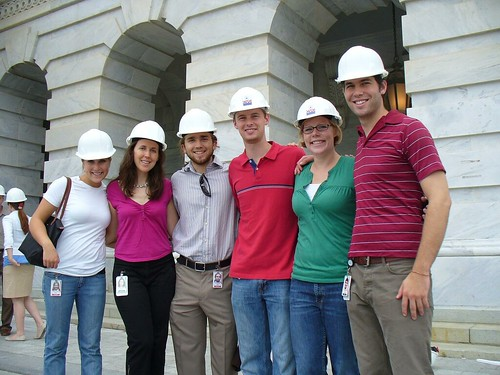person hardhat: (335, 44, 452, 375), (23, 126, 120, 371), (225, 88, 298, 374), (292, 92, 359, 375), (170, 108, 241, 375), (107, 120, 177, 375), (1, 179, 46, 340)
